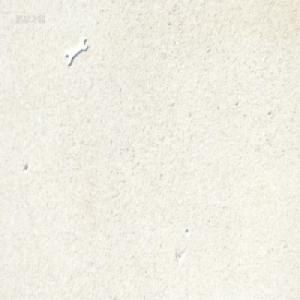Wrench: (64, 33, 87, 64)
